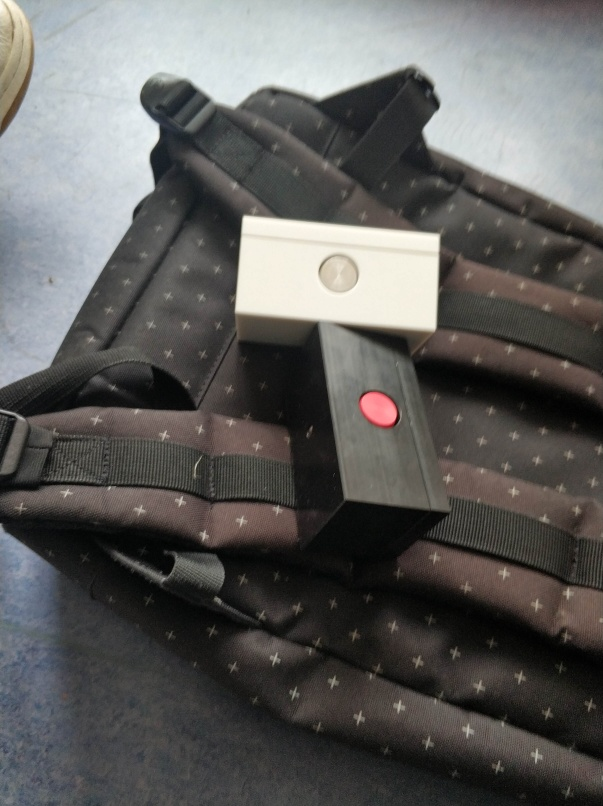black+black+red: (284, 320, 457, 558)
white+white+silver: (231, 213, 444, 349)
